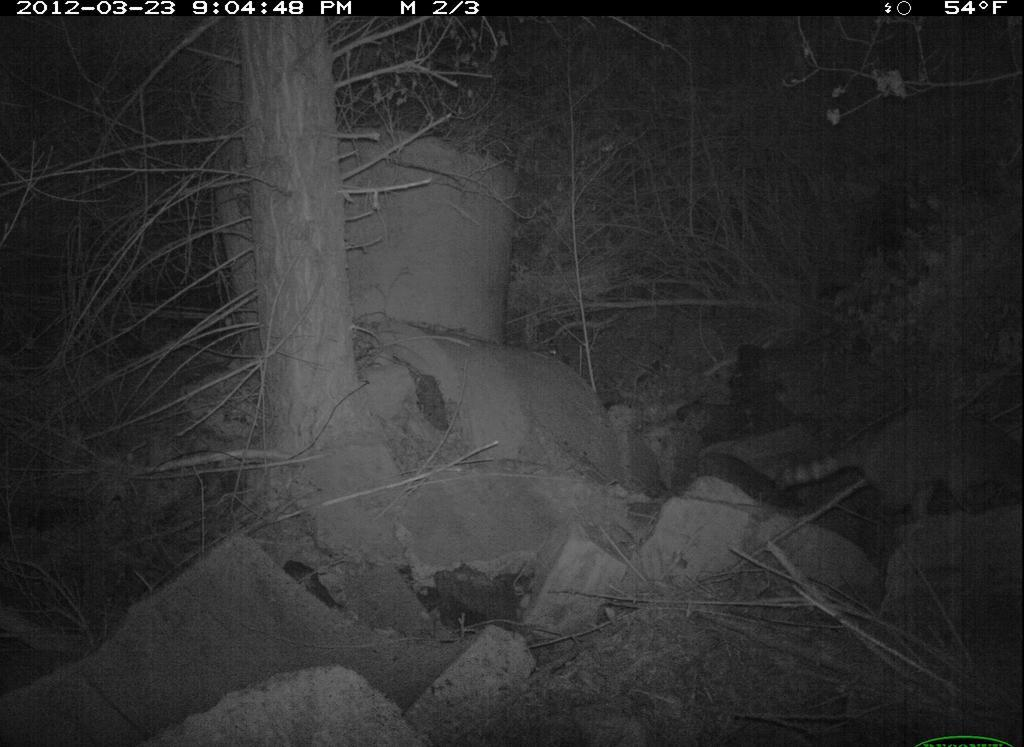raccoon: (766, 397, 1022, 542)
